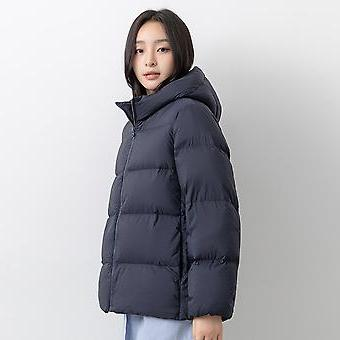coat: (96, 65, 242, 322)
trousers: (124, 311, 201, 340)
